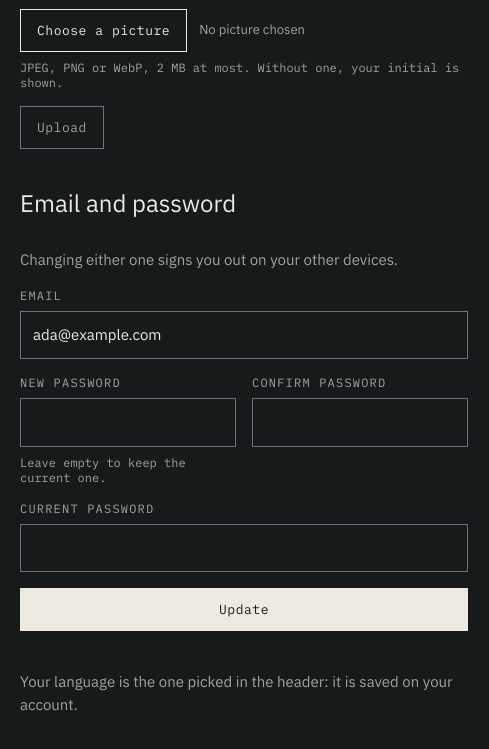
Test case: ProfilePage email and password form › sends nothing when neither the email nor the password changed
This screenshot has width=489, height=749.
(page scrolled)
Type "secret-123" into the password field labelled "Current password" at (244, 548), box [20, 524, 468, 572]
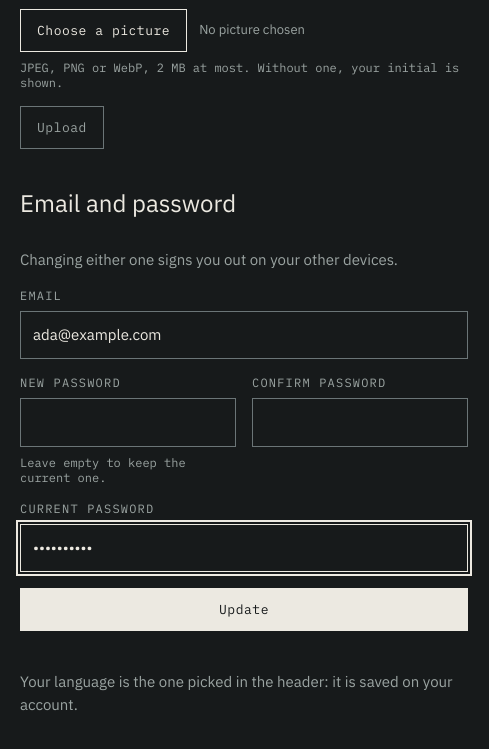
Click the button "Update" at (244, 610), box [20, 588, 468, 631]
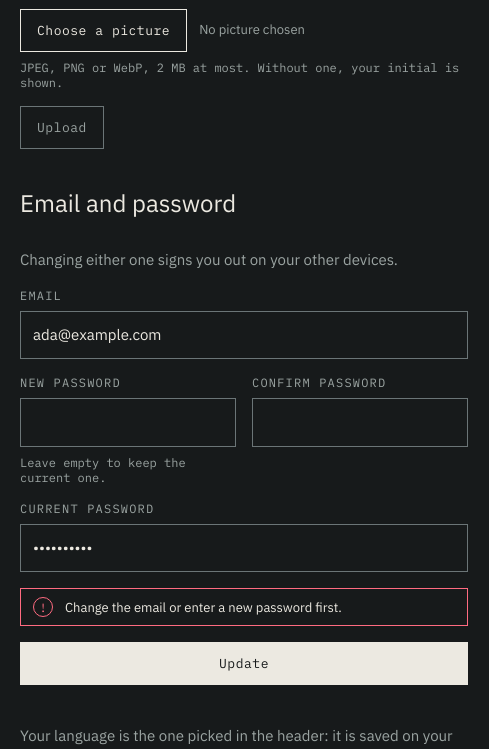
Check: the text "Change the email or enter a new password first." is shown, box [65, 598, 342, 617]
